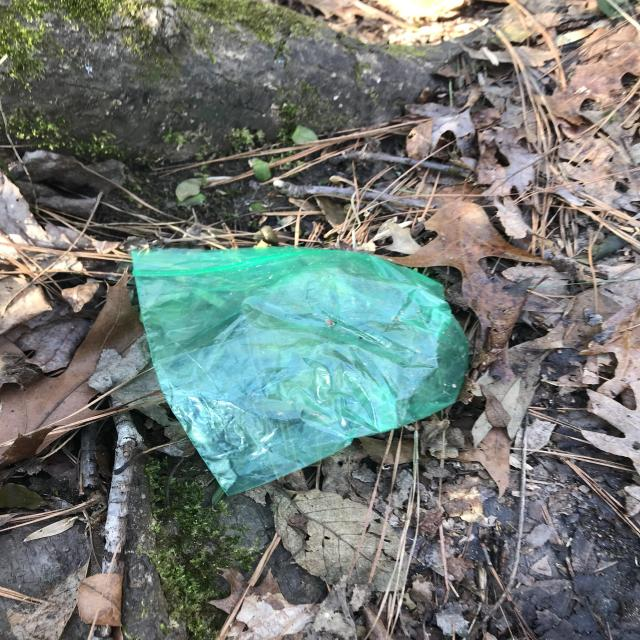litter: (128, 247, 468, 493)
